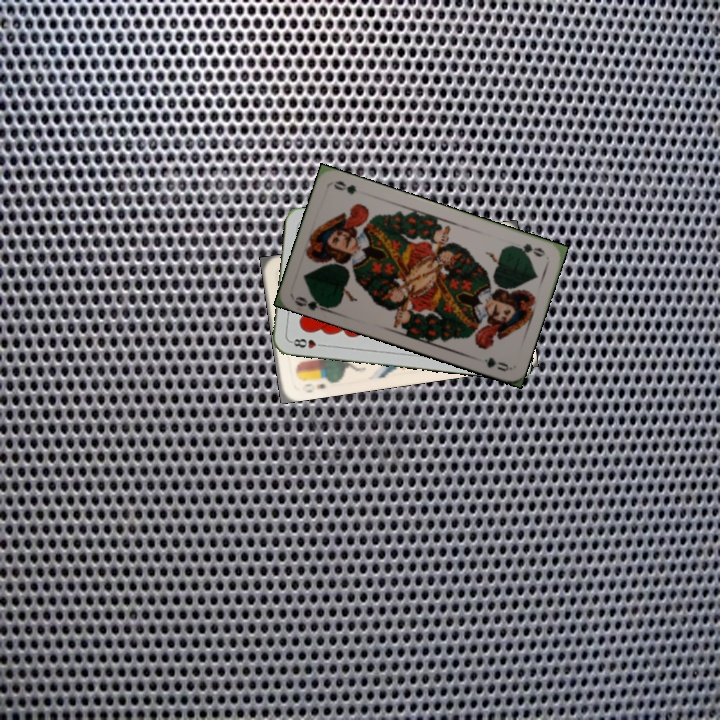EO: (298, 379, 328, 395)
GO: (291, 292, 332, 314), (508, 239, 548, 260)
H8: (287, 334, 327, 351)
